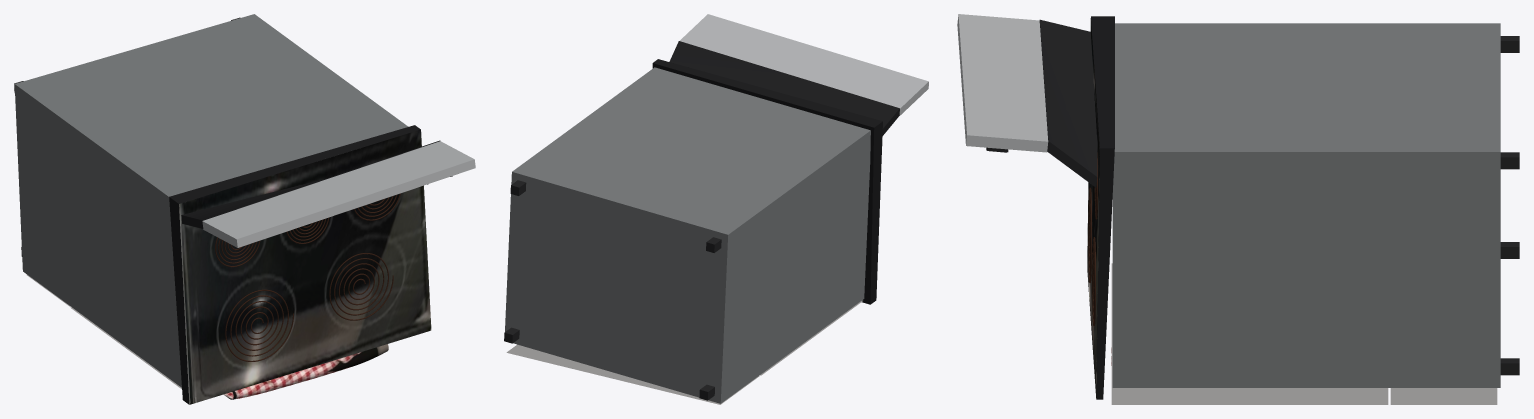
The picture shows the model from 3 angles, left to right: view 1: azimuth 30°, elevation 25°; view 2: azimuth 150°, elevation 25°; view 3: azimuth 270°, elevation 25°; orthographic projection. The views are drawn at different scales.
Parts seen in each view (by area): view 1: housing/5, housing/4, housing/0, housing/15, housing/3, oven_door/17, housing/2; view 2: housing/5, housing/0, housing/2, housing/3, storage_drawer/18, housing/7; view 3: housing/5, housing/0, housing/2, housing/3, oven_door/18, storage_drawer/18, housing/4, housing/7, housing/15.
Part boxes in pixels (box(x1,y1,x2,y2)): housing/5: box(14, 14, 408, 387); housing/4: box(179, 129, 431, 404); housing/0: box(202, 141, 475, 247); housing/15: box(215, 193, 400, 361); housing/3: box(169, 125, 420, 404); oven_door/17: box(224, 344, 388, 399); housing/2: box(181, 140, 440, 228); housing/5: box(505, 67, 870, 403); housing/0: box(680, 14, 928, 115); housing/2: box(669, 41, 899, 135); housing/3: box(652, 59, 882, 304); storage_drawer/18: box(506, 344, 759, 404); housing/7: box(504, 180, 721, 400); housing/5: box(1112, 23, 1500, 387); housing/0: box(957, 14, 1048, 152); housing/2: box(1039, 19, 1097, 187); housing/3: box(1091, 16, 1114, 399); oven_door/18: box(1111, 263, 1388, 404); storage_drawer/18: box(1390, 388, 1497, 404); housing/4: box(1087, 18, 1099, 397); housing/7: box(1500, 36, 1519, 375); housing/15: box(1088, 152, 1097, 326).
Bounding box in the file's own units: 0.7708 × 0.703 × 1.21.
18 materials, 3 textured.
